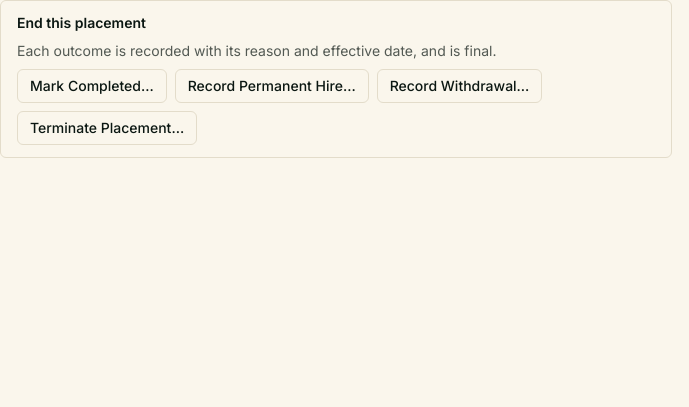
Test: TerminalOutcomePanel (Story 5.8) › confirms completion with finality language and an effective date
Click the button "Mark Completed…": (92, 86) [17, 69, 167, 103]
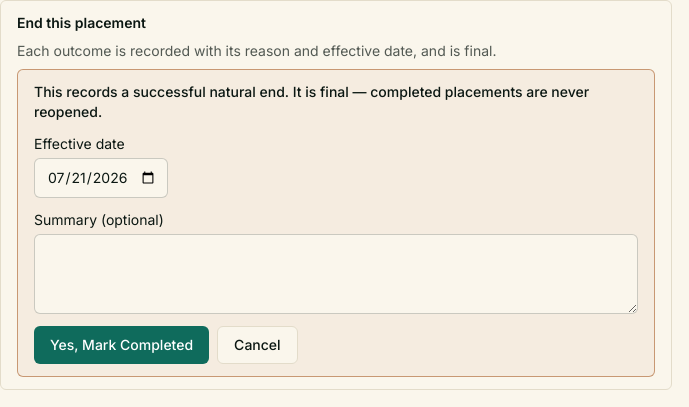
Check: the text "final — completed placements are never reopened" is shown, box [34, 83, 589, 120]
Check: the date field labelled "Effective date" is shown, box [34, 158, 168, 198]
Check: the button "Yes, Mark Completed" is shown, box [34, 326, 209, 364]
